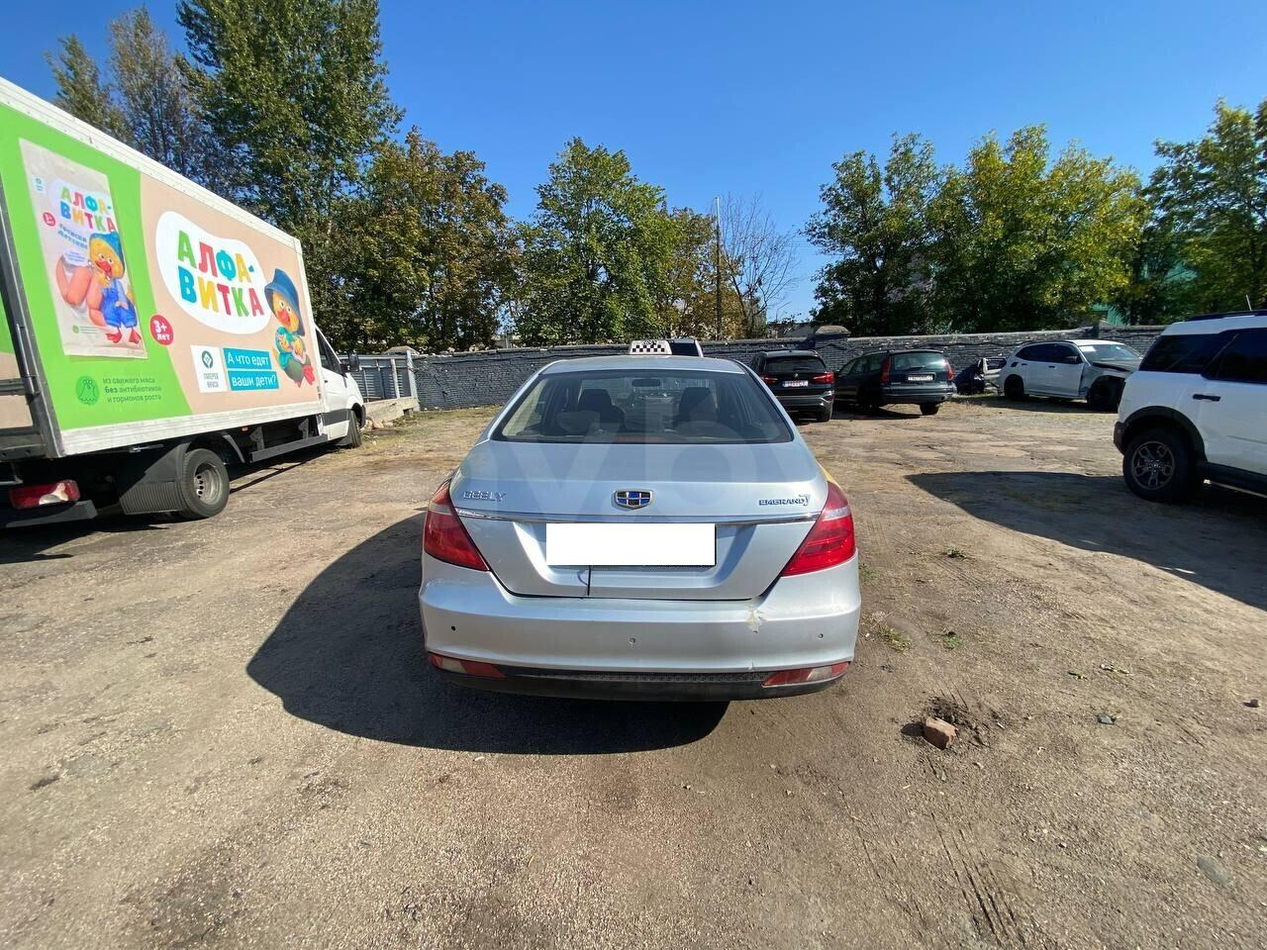Emgrand_2019-2021: (418, 353, 858, 699)
